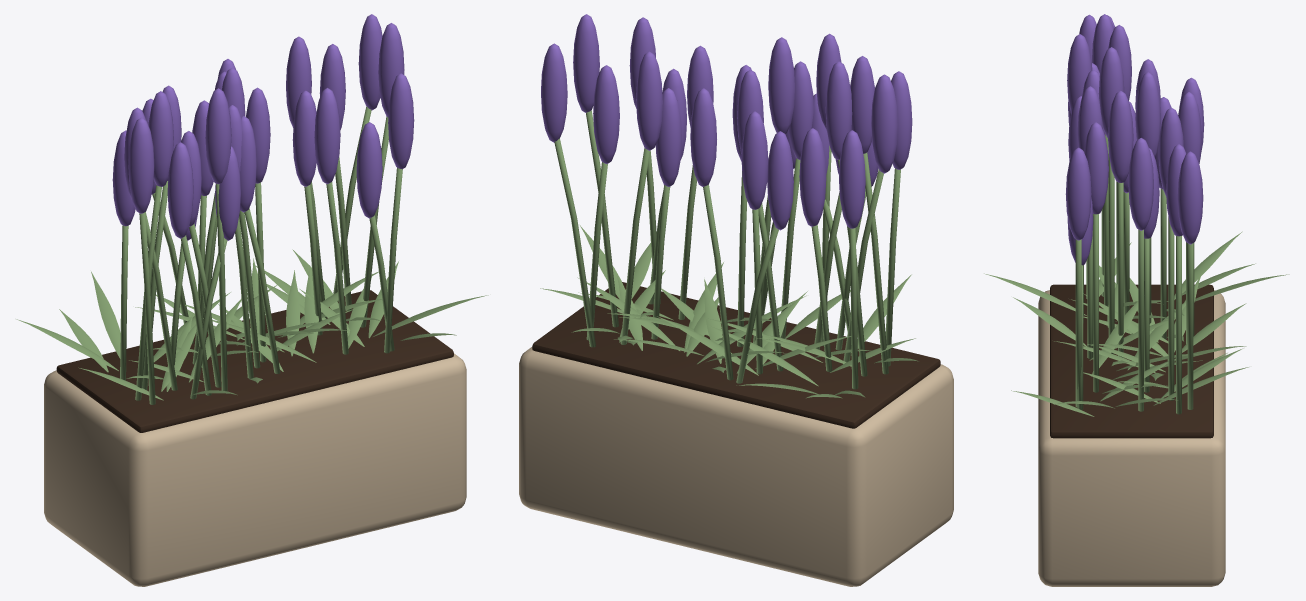
File: plant_lavender.glb
The picture shows the model from 3 angles, left to right: view 1: azimuth 30°, elevation 25°; view 2: azimuth 150°, elevation 25°; view 3: azimuth 270°, elevation 25°; orthographic projection. The views are drawn at different scales.
Visible parts, largest first — view 1: box, box.001, sphere.016, sphere, sphere.002, sphere.006, sphere.024, sphere.025, sphere.017, sphere.020, sphere.019, sphere.009 (+33 smaller); view 2: box, box.001, sphere.004, sphere.023, sphere.012, sphere.011, sphere.008, sphere.019, sphere.021, sphere.018, sphere.015, sphere.013 (+37 smaller); view 3: box, box.001, sphere.006, sphere.019, sphere.009, sphere.010, sphere.005, sphere.002, sphere.013, sphere.025, tube.004, sphere.004 (+27 smaller).
Part boxes in pixels (box(x1,y1,x2,y2)): box: box(44, 353, 466, 586); box.001: box(56, 290, 453, 432); sphere.016: box(356, 122, 382, 218); sphere: box(167, 142, 193, 238); sphere.002: box(314, 88, 340, 184); sphere.006: box(388, 73, 414, 169); sphere.024: box(128, 117, 154, 213); sphere.025: box(205, 88, 231, 184); sphere.017: box(292, 90, 316, 186); sphere.020: box(148, 91, 173, 186); sphere.019: box(358, 14, 382, 110); sphere.009: box(378, 23, 404, 117); box: box(519, 347, 953, 586); box.001: box(532, 282, 940, 428); sphere.004: box(636, 51, 662, 150); sphere.023: box(767, 131, 793, 230); sphere.012: box(839, 130, 865, 228); sphere.011: box(871, 74, 897, 173); sphere.008: box(593, 65, 619, 163); sphere.019: box(541, 43, 567, 142); sphere.021: box(690, 88, 716, 186); sphere.018: box(799, 128, 826, 226); sphere.015: box(741, 111, 768, 209); sphere.013: box(768, 37, 794, 133); box: box(1038, 290, 1225, 586); box.001: box(1050, 284, 1213, 438); sphere.006: box(1065, 147, 1091, 240); sphere.019: box(1177, 151, 1203, 244); sphere.009: box(1128, 138, 1153, 230); sphere.010: box(1108, 91, 1133, 182); sphere.005: box(1135, 72, 1160, 157); sphere.002: box(1084, 122, 1108, 214); sphere.013: box(1098, 47, 1124, 137); sphere.025: box(1067, 34, 1092, 113); tube.004: box(1168, 216, 1174, 400); sphere.004: box(1158, 107, 1183, 196).
Bounding box in the file's own units: 35.94 × 42.38 × 26.4.
